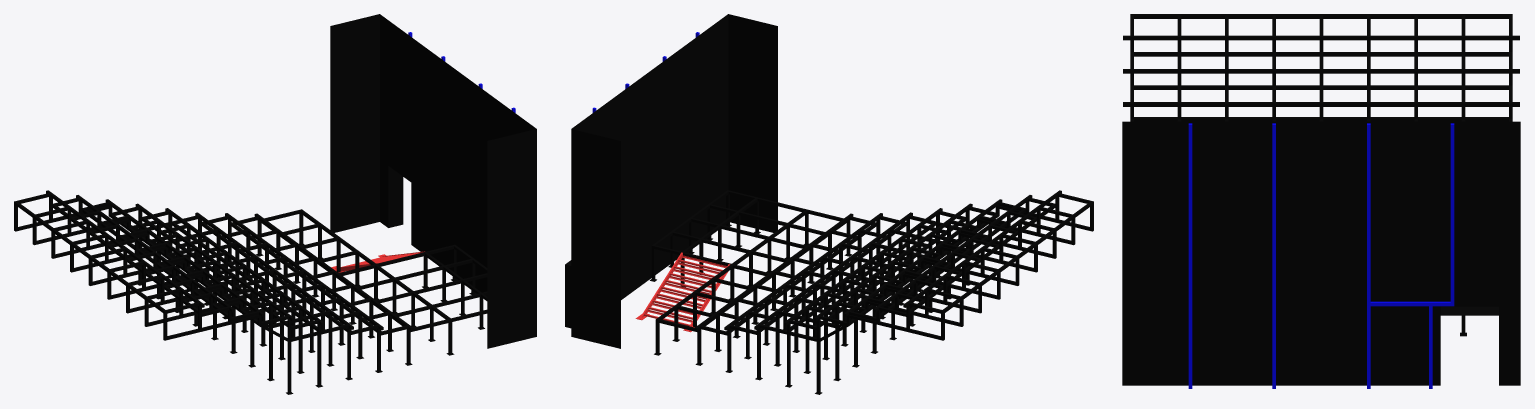
Rendered from padest+.obj.
The picture shows the model from 3 angles, left to right: view 1: azimuth 30°, elevation 25°; view 2: azimuth 150°, elevation 25°; view 3: azimuth 270°, elevation 25°; orthographic projection. The views are drawn at different scales.
Bounding box in the file's own units: 15455 × 8000 × 10950.
